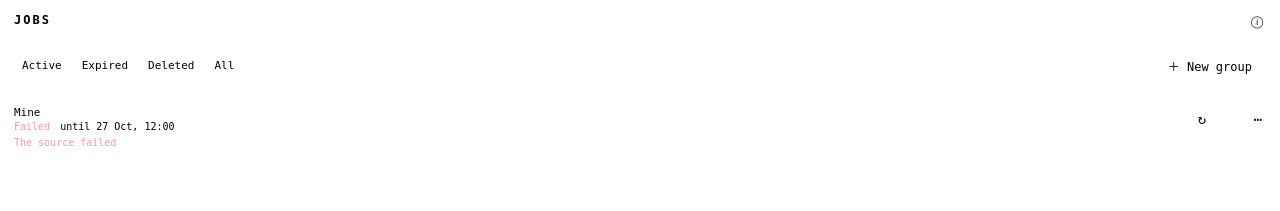
Scenario: a click › keeps the old job: archived and "Superseded" under "All", and in the browser
Click the button "↻": (1202, 119) [1190, 107, 1214, 131]
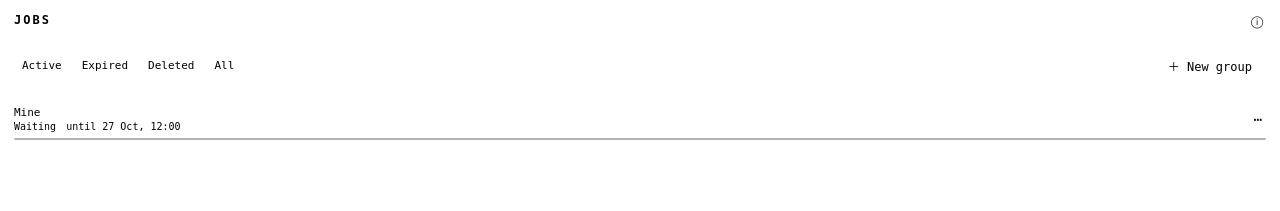
Click the button "All": (224, 66) [206, 56, 242, 75]
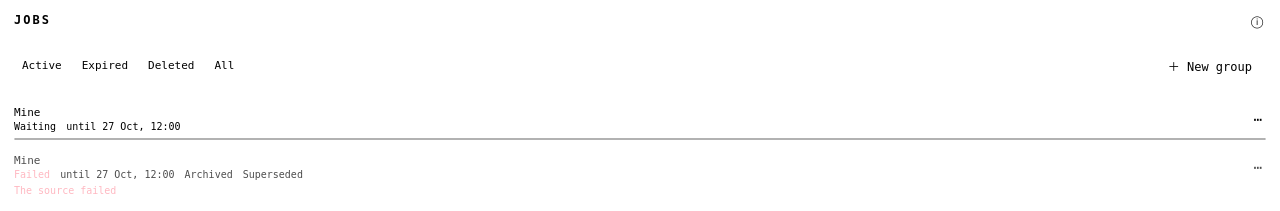
Expected: the text "Failed" is shown, [14, 169, 50, 180]
